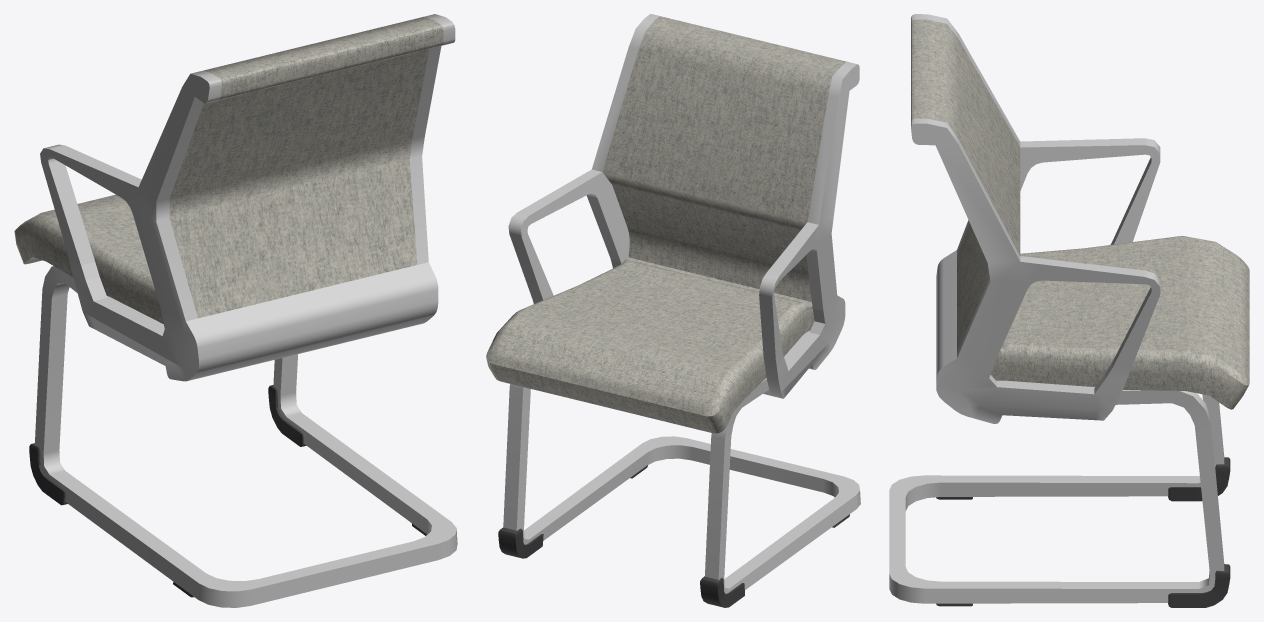
File: chair.fbx
The picture shows the model from 3 angles, left to right: view 1: azimuth 30°, elevation 25°; view 2: azimuth 150°, elevation 25°; view 3: azimuth 270°, elevation 25°; orthographic projection. The views are drawn at different scales.
Visible parts, largest first — view 1: chair8; view 2: chair8; view 3: chair8.
Part boxes in pixels (<box>): chair8: <box>14,14,457,607</box>; chair8: <box>486,14,860,607</box>; chair8: <box>889,14,1249,607</box>.
Size of the model in its own units: 0.0218 by 0.035 by 0.0237.
3 materials, 1 textured.
